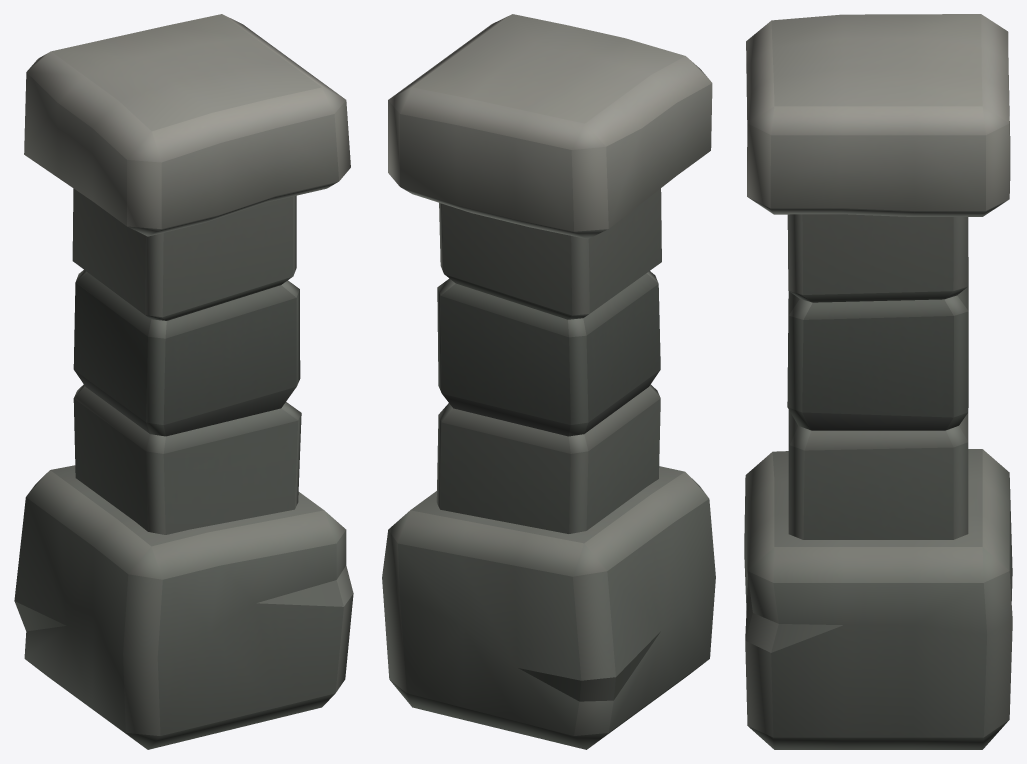
File: pillar_1.fbx
The picture shows the model from 3 angles, left to right: view 1: azimuth 30°, elevation 25°; view 2: azimuth 150°, elevation 25°; view 3: azimuth 270°, elevation 25°; orthographic projection. The views are drawn at different scales.
Visible parts, largest first — view 1: pillar_1; view 2: pillar_1; view 3: pillar_1.
Part boxes in pixels (x1,y1,x2,y2): pillar_1: (14,14,353,749); pillar_1: (382,14,715,749); pillar_1: (744,14,1012,749).
Bounding box in the file's own units: 120 × 306 × 114.
